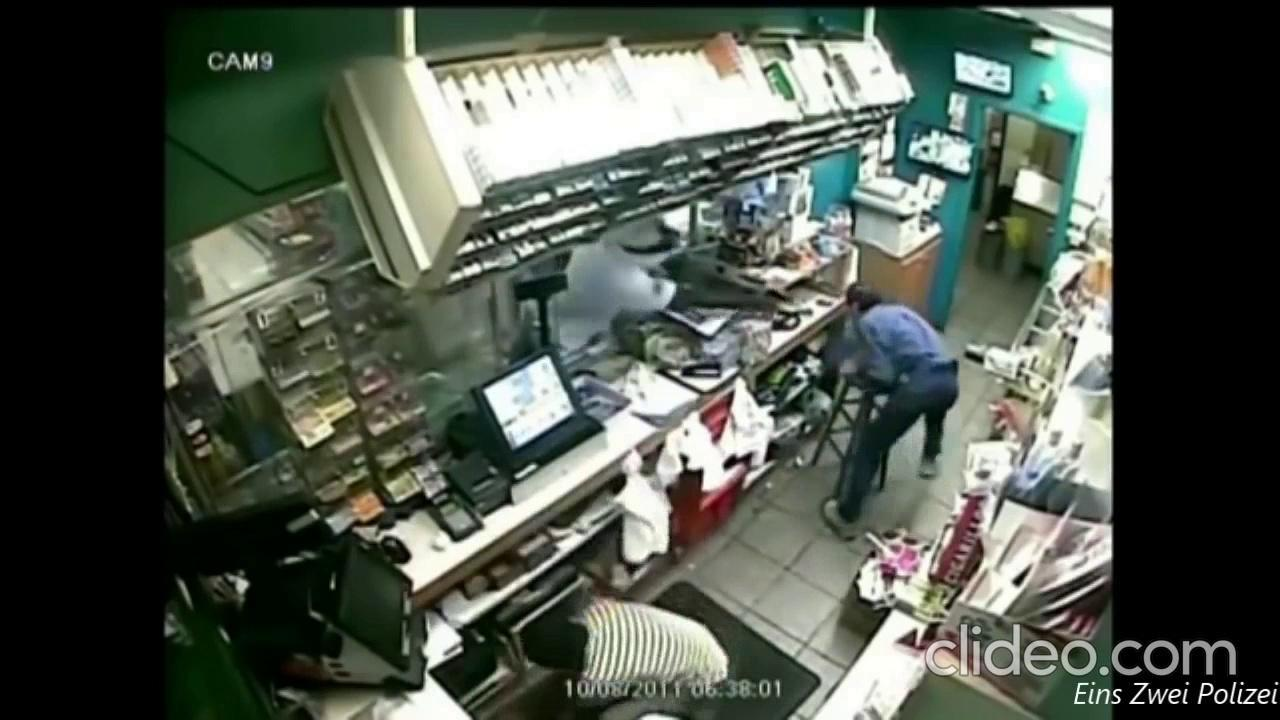person: (822, 281, 962, 544), (542, 210, 777, 351)
pistol: (763, 286, 794, 306)
